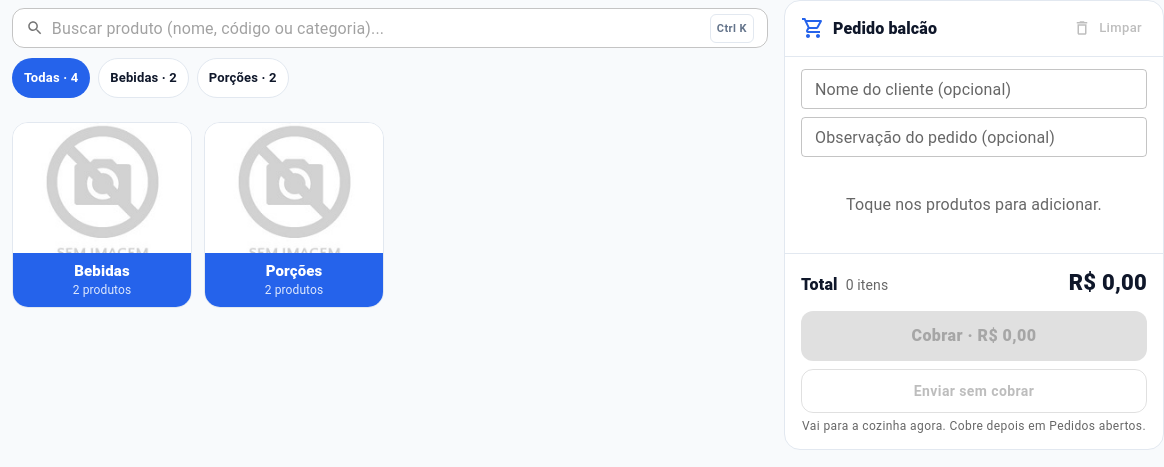
Scenario: PDV de balcão › busca por SKU, indica indisponível e não inclui o produto
Click the button with aria-label "Ver produtos de Bebidas": x=102, y=215 [12,122,192,308]
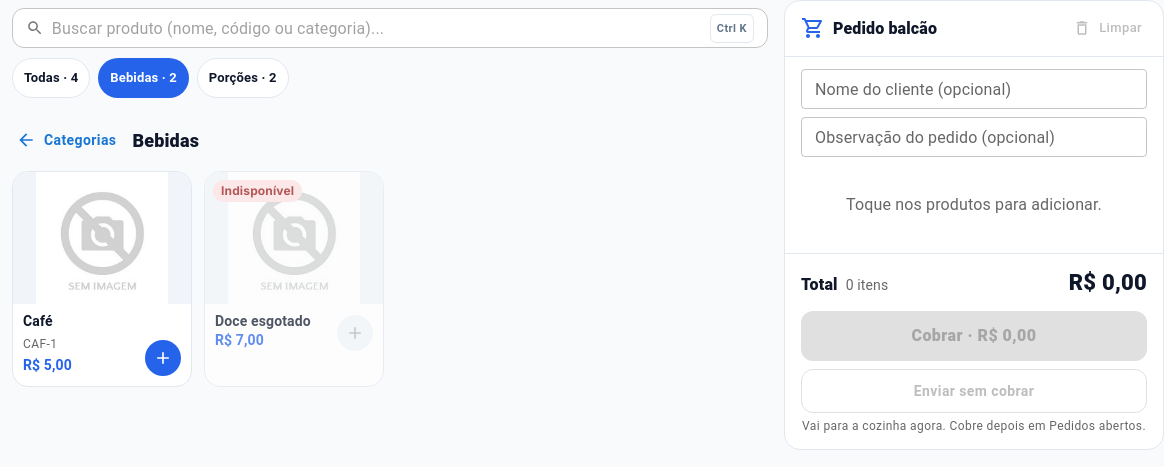
Now the button named "Doce esgotado indisponível" is disabled, box [337,315,373,351]
In the search field labelled "Buscar produto": x=377, y=28 [52,8,702,48], type "caf-1"
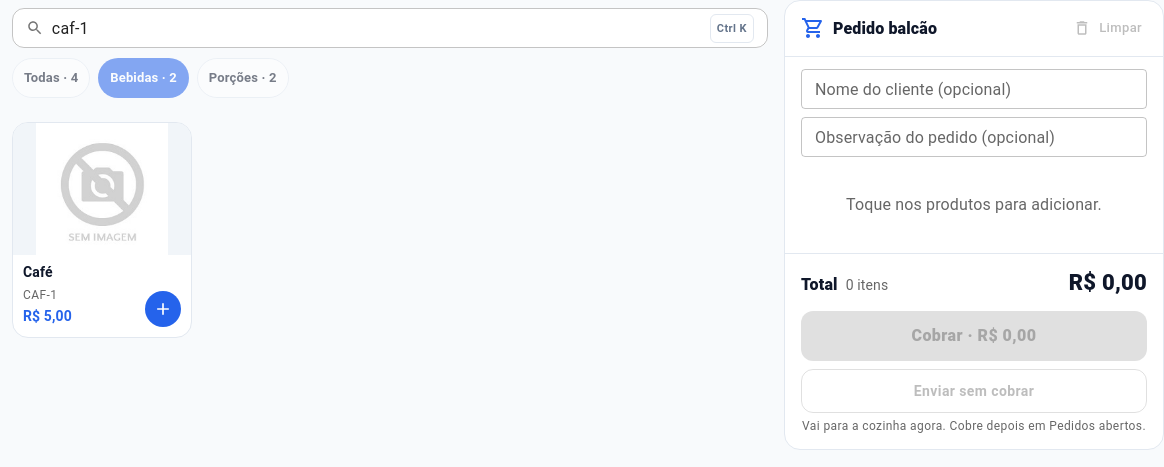
Now the button named "Adicionar Café" is shown, box [145,291,181,327]
Replace the text in the search field named "Buscar produto" with "inexistente": x=377, y=28 [52,8,702,48]
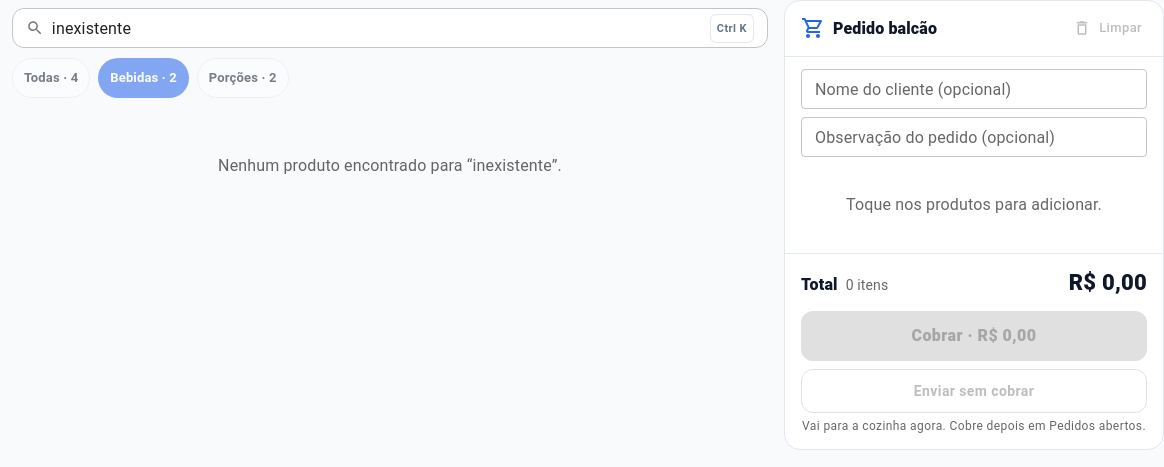
Now the text "Nenhum produto encontrado para “inexistente”." is shown, box [218,156,562,175]
